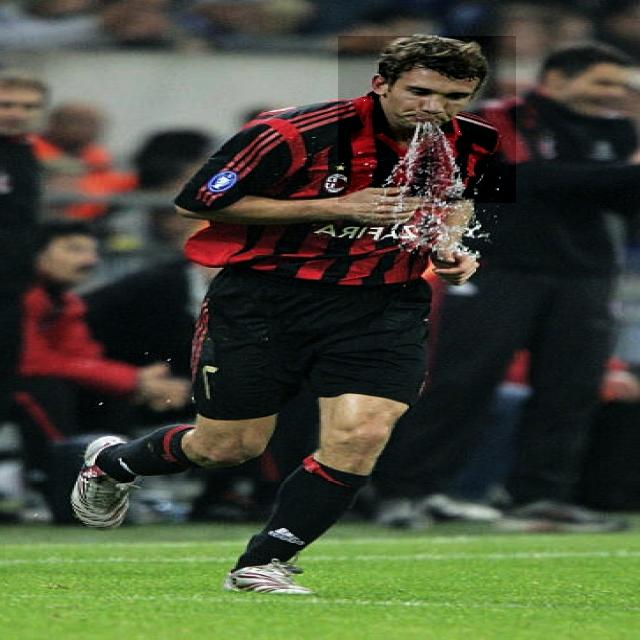Spitting: (338, 36, 516, 203)
